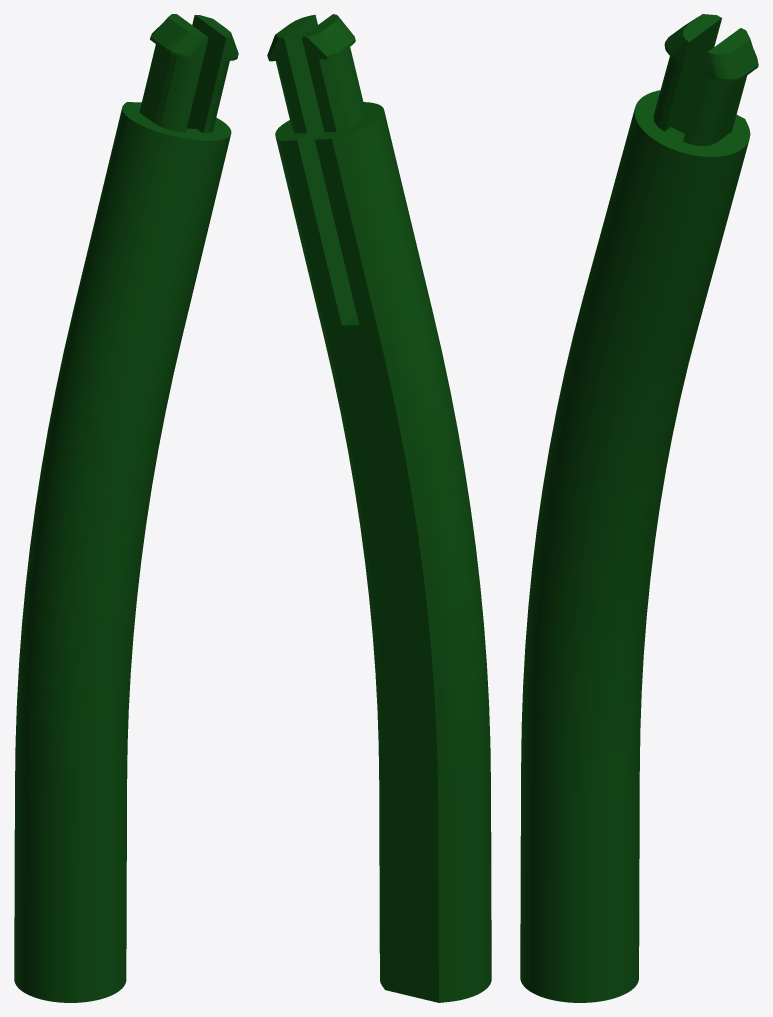
Rendered from stem_1A_15R.glb.
The picture shows the model from 3 angles, left to right: view 1: azimuth 30°, elevation 25°; view 2: azimuth 150°, elevation 25°; view 3: azimuth 330°, elevation 25°; orthographic projection. The views are drawn at different scales.
Visible parts, largest first — view 1: stem_1A_15R; view 2: stem_1A_15R; view 3: stem_1A_15R.
Part boxes in pixels (<box>): stem_1A_15R: <box>14,14,238,1002</box>; stem_1A_15R: <box>267,14,491,1002</box>; stem_1A_15R: <box>520,14,758,1002</box>.
Bounding box in the file's own units: 0.0154 × 0.0658 × 0.00666.
